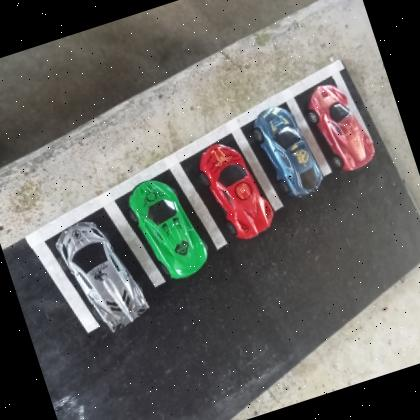Car: (51, 210, 155, 340), (121, 168, 212, 286), (192, 132, 279, 247), (248, 98, 326, 206), (302, 75, 380, 177)
